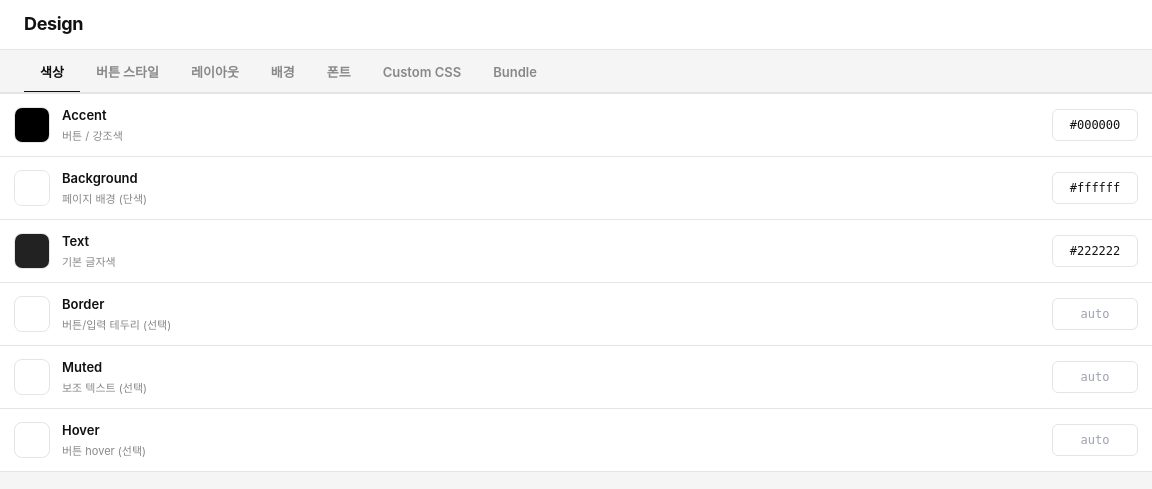
Design › Theme Bundle import surfaces an error for invalid JSON
Click the tab "Bundle" at point(515, 74), box x1=477 y1=56 x2=553 y2=93
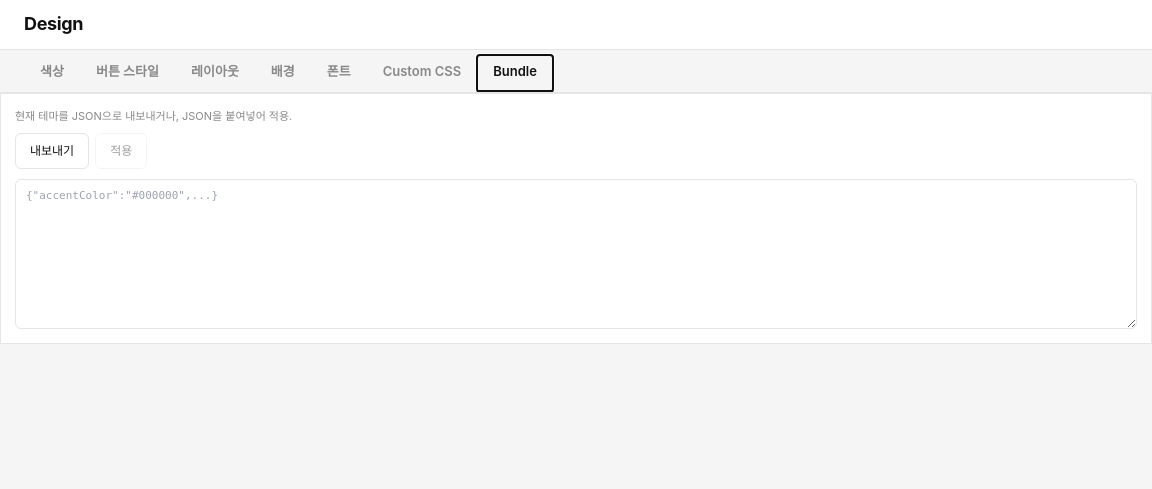
Type "not-json" into the text box with placeholder "{\"accentColor\":\"#000000\",...}" at point(576, 254), box x1=15 y1=178 x2=1137 y2=328
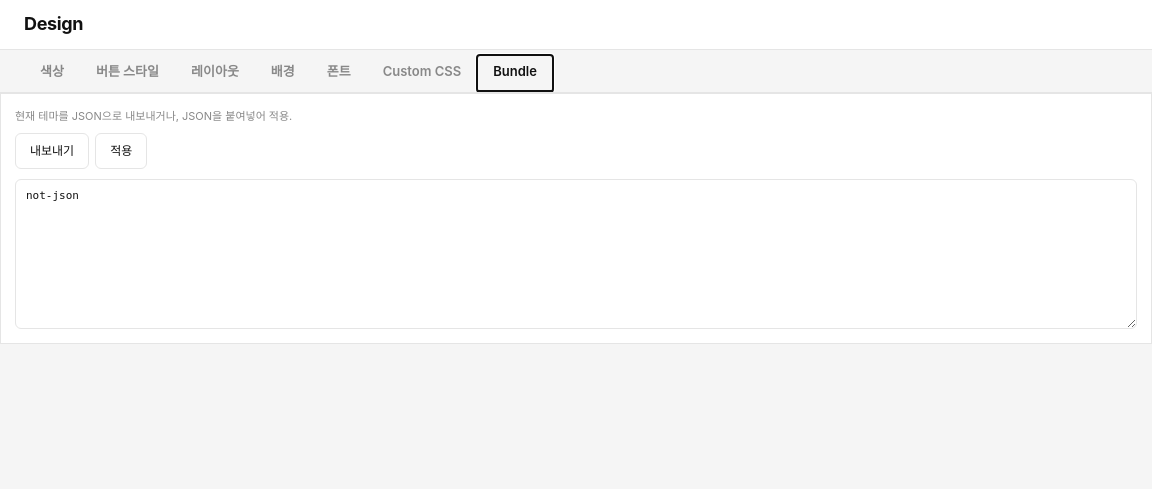
Click the button "적용" at point(121, 150), box x1=95 y1=132 x2=147 y2=168
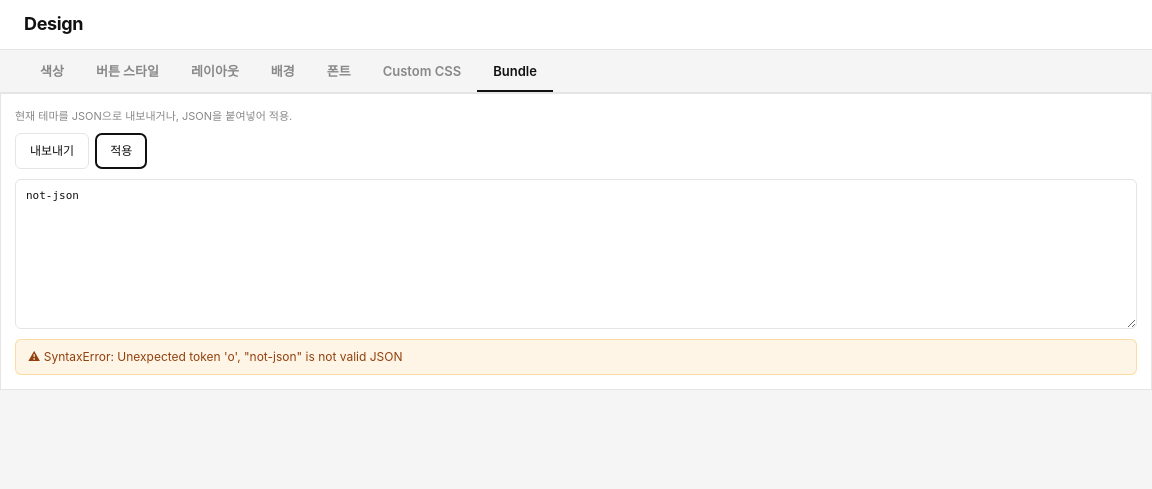
Check: the text "⚠" is shown, box x1=28 y1=348 x2=44 y2=364
